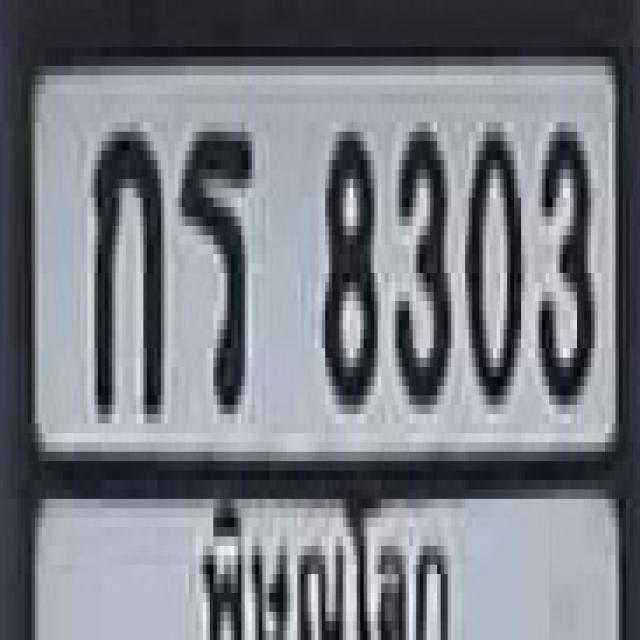0: (465, 122, 518, 396)
3: (535, 113, 591, 395), (392, 122, 448, 396)
8: (322, 122, 374, 396)
A01: (91, 122, 161, 405)
A35: (178, 122, 252, 405)
PLK: (191, 464, 459, 640)
